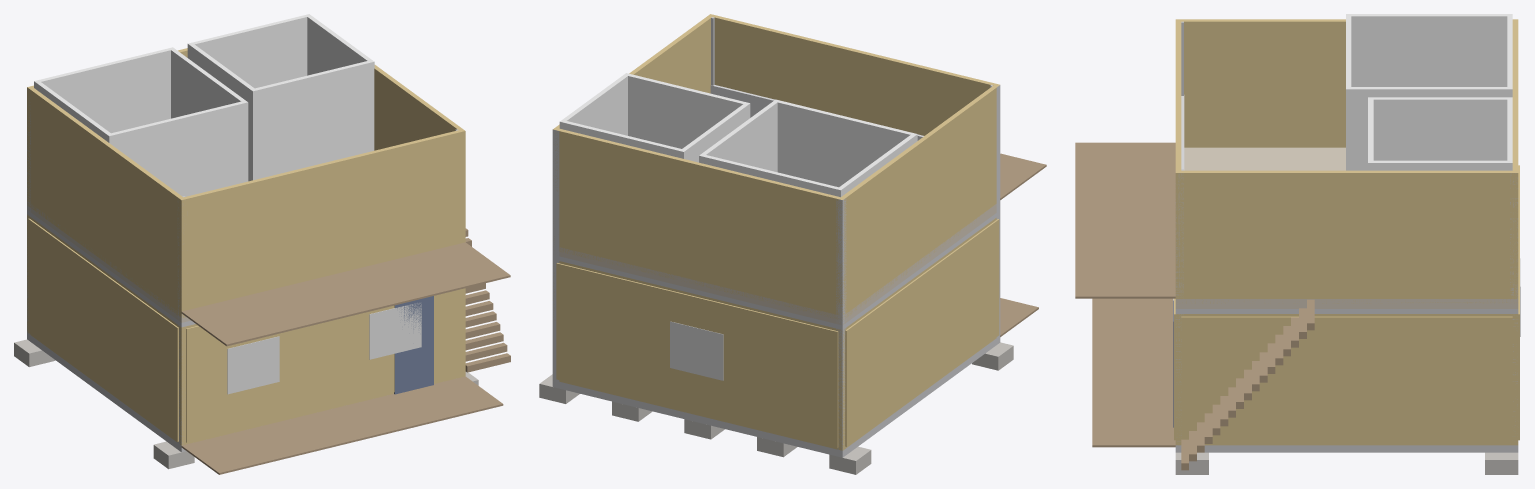
Rendered from Duplex-20-Base-GoldenTan-LOD1.glb.
3 views of the same model, side by side, from view 1: azimuth 30°, elevation 25°; view 2: azimuth 150°, elevation 25°; view 3: azimuth 270°, elevation 25° (orthographic). The views are drawn at different scales.
Visible parts, largest first — view 1: ExteriorShellUpper, ExteriorPanelsStandard, StudyUpper, BedroomUpper, BalconyUpper, BalconyGround, WindowsStandard, StaircaseExternal, EntryDoor, ExteriorShell, FoundationBlocks, BaseFrame (+3 smaller); view 2: ExteriorShellUpper, ExteriorPanelsStandard, BedroomUpper, StudyUpper, VerticalStructure, FloorUpper, FoundationBlocks, BaseFrame, ExteriorShell, WindowsStandard, TopFrame, BalconyUpper (+2 smaller); view 3: ExteriorShellUpper, ExteriorPanelsStandard, BalconyUpper, BedroomUpper, BalconyGround, StudyUpper, FloorUpper, StaircaseExternal, ExteriorShell, BaseFrame, TopFrame, FoundationBlocks (+1 smaller).
Part boxes in pixels (x1=…): ExteriorShellUpper: x1=27, y1=48, x2=465, y2=317; ExteriorPanelsStandard: x1=28, y1=218, x2=461, y2=442; StudyUpper: x1=187, y1=14, x2=374, y2=181; BedroomUpper: x1=34, y1=47, x2=248, y2=196; BalconyUpper: x1=181, y1=242, x2=510, y2=346; BalconyGround: x1=181, y1=376, x2=503, y2=474; WindowsStandard: x1=227, y1=303, x2=421, y2=394; StaircaseExternal: x1=465, y1=228, x2=510, y2=372; EntryDoor: x1=394, y1=296, x2=433, y2=394; ExteriorShell: x1=27, y1=214, x2=465, y2=445; FoundationBlocks: x1=14, y1=339, x2=478, y2=469; BaseFrame: x1=27, y1=333, x2=186, y2=452; ExteriorShellUpper: x1=553, y1=14, x2=999, y2=320; ExteriorPanelsStandard: x1=556, y1=219, x2=999, y2=447; BedroomUpper: x1=699, y1=99, x2=917, y2=197; StudyUpper: x1=559, y1=73, x2=750, y2=162; VerticalStructure: x1=552, y1=17, x2=1000, y2=449; FloorUpper: x1=553, y1=204, x2=996, y2=325; FoundationBlocks: x1=539, y1=342, x2=1013, y2=474; BaseFrame: x1=552, y1=336, x2=1000, y2=457; ExteriorShell: x1=553, y1=218, x2=996, y2=450; WindowsStandard: x1=670, y1=321, x2=723, y2=380; TopFrame: x1=559, y1=213, x2=996, y2=329; BalconyUpper: x1=1000, y1=153, x2=1046, y2=199; ExteriorShellUpper: x1=1175, y1=19, x2=1518, y2=303; ExteriorPanelsStandard: x1=1174, y1=165, x2=1519, y2=443; BalconyUpper: x1=1075, y1=142, x2=1175, y2=298; BedroomUpper: x1=1346, y1=14, x2=1512, y2=170; BalconyGround: x1=1092, y1=298, x2=1175, y2=447; StudyUpper: x1=1368, y1=97, x2=1512, y2=170; FloorUpper: x1=1175, y1=147, x2=1518, y2=308; StaircaseExternal: x1=1181, y1=299, x2=1314, y2=470; ExteriorShell: x1=1175, y1=314, x2=1518, y2=445; BaseFrame: x1=1175, y1=445, x2=1518, y2=452; TopFrame: x1=1175, y1=309, x2=1518, y2=313; FoundationBlocks: x1=1175, y1=452, x2=1518, y2=474.
Bounding box in the file's own units: 7.94 × 6 × 8.
